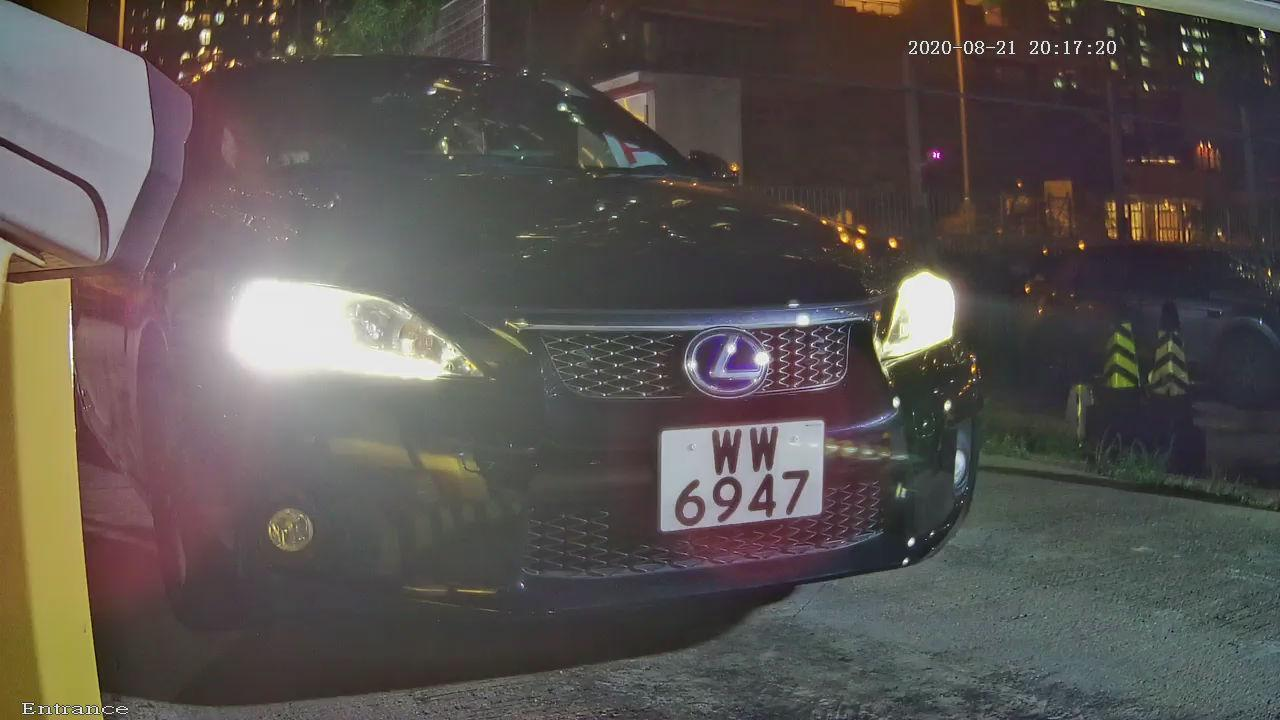Car: (18, 10, 1098, 663)
License Plate: (641, 412, 846, 544)
